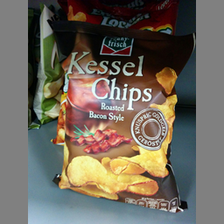chips: (59, 22, 185, 210)
